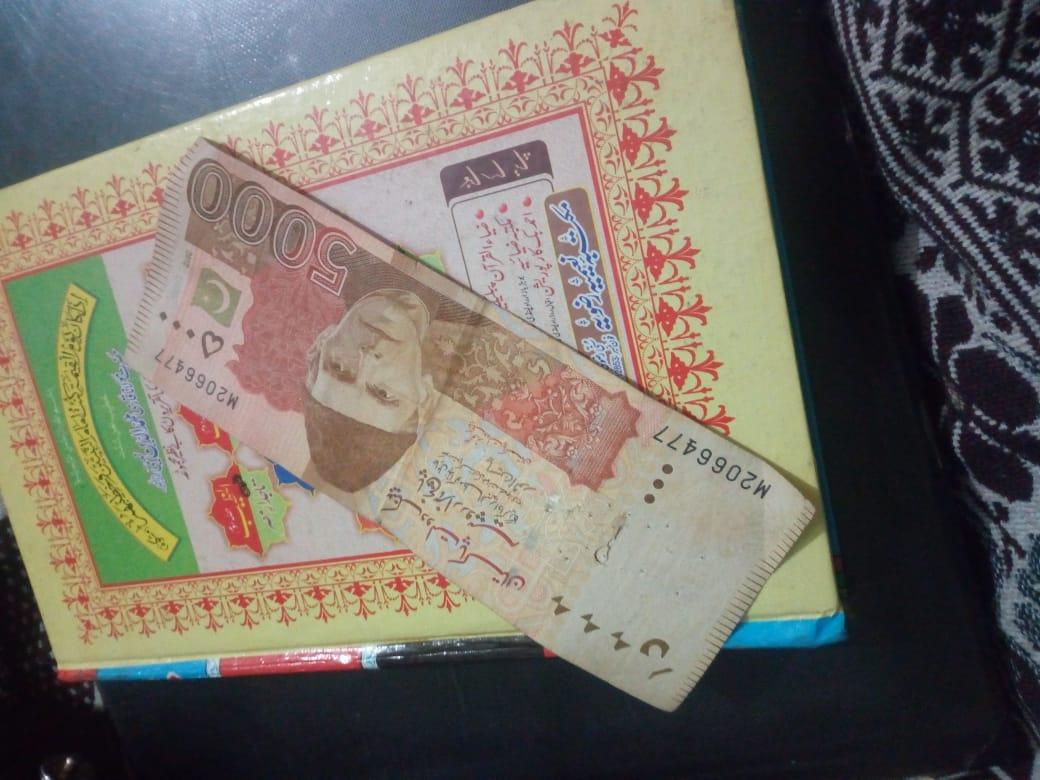5000 rupee: (125, 128, 852, 715)
